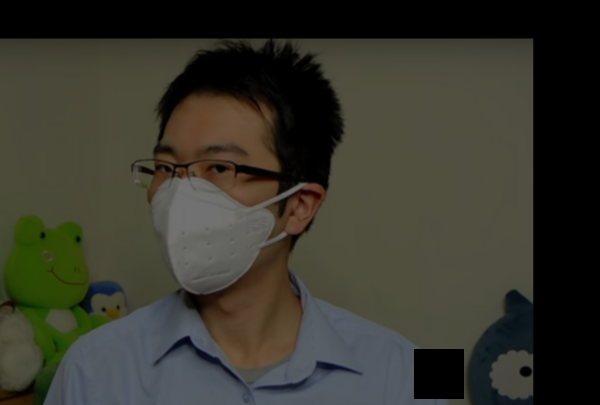with_mask: (146, 138, 279, 298)
